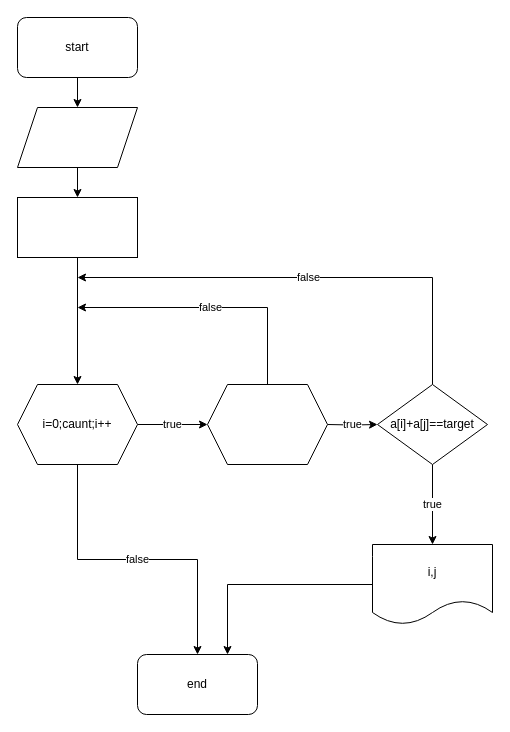
Some shapes in this 510 by 732 pixel diagram are drawn without their labels. Each missing label, with the box of its shape:
a[i]: (16, 106, 138, 168)
j=i+1;j<length;j++: (206, 384, 328, 464)
target=15 caunt=length-1: (16, 196, 138, 258)
